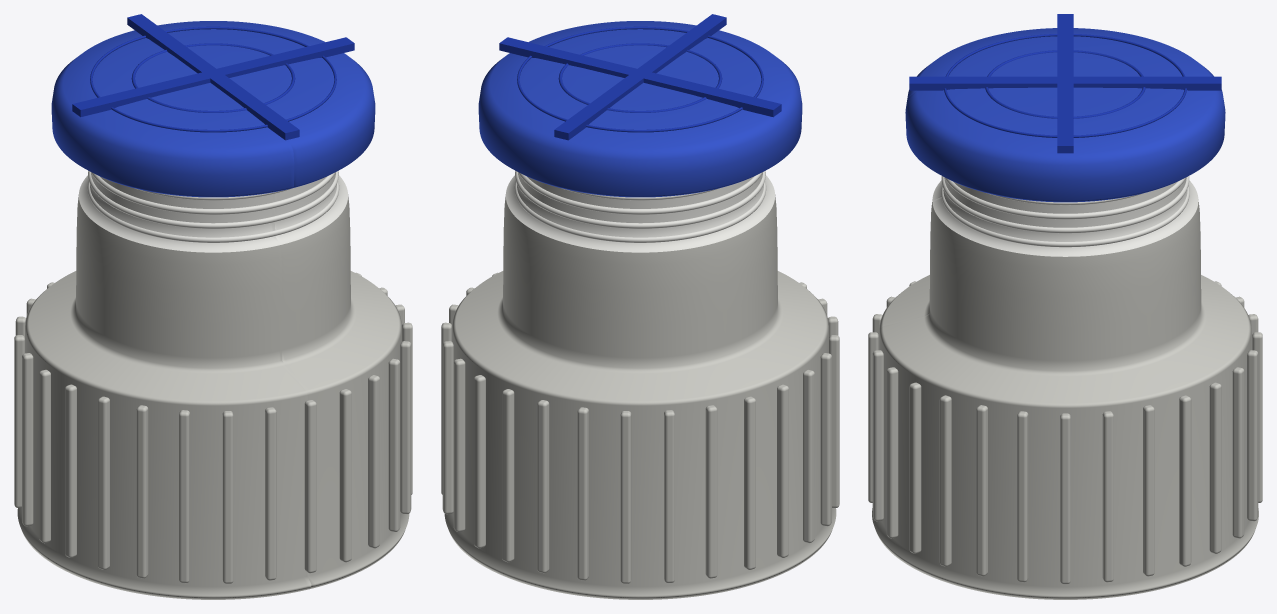
The model's file is araldite-container-procedural.glb.
The picture shows the model from 3 angles, left to right: view 1: azimuth 30°, elevation 25°; view 2: azimuth 150°, elevation 25°; view 3: azimuth 270°, elevation 25°; orthographic projection.
Visible parts, largest first — view 1: grey-body, blue-cap, collar, cross-z, cross-x, rib-6, rib-7, rib-11, rib-4, rib-12, rib-13, rib-3 (+12 smaller); view 2: grey-body, blue-cap, collar, cross-z, cross-x, rib-17, rib-21, rib-22, rib-24, rib-15, rib-16, rib-20 (+12 smaller); view 3: grey-body, blue-cap, collar, cross-x, cross-z, rib-4, rib-24, rib-5, rib-23, rib-3, rib-25, rib-1 (+13 smaller).
Boxes of the visible parts, left/top/right/bottom form: grey-body: left=17, top=194, right=409, bottom=599; blue-cap: left=51, top=21, right=375, bottom=197; collar: left=79, top=172, right=347, bottom=252; cross-z: left=72, top=37, right=354, bottom=117; cross-x: left=127, top=14, right=299, bottom=140; rib-6: left=339, top=389, right=351, bottom=562; rib-7: left=304, top=400, right=316, bottom=573; rib-11: left=136, top=405, right=148, bottom=578; rib-4: left=388, top=358, right=400, bottom=531; rib-12: left=98, top=396, right=109, bottom=569; rib-13: left=65, top=384, right=76, bottom=557; rib-3: left=400, top=341, right=411, bottom=514; grey-body: left=444, top=194, right=836, bottom=599; blue-cap: left=478, top=21, right=802, bottom=197; collar: left=506, top=172, right=774, bottom=252; cross-z: left=499, top=37, right=781, bottom=117; cross-x: left=554, top=14, right=726, bottom=140; rib-17: left=705, top=405, right=717, bottom=578; rib-21: left=537, top=400, right=549, bottom=573; rib-22: left=502, top=389, right=514, bottom=562; rib-24: left=453, top=358, right=465, bottom=531; rib-15: left=777, top=384, right=788, bottom=557; rib-16: left=744, top=396, right=755, bottom=569; rib-20: left=577, top=407, right=588, bottom=580; grey-body: left=872, top=202, right=1258, bottom=599; blue-cap: left=905, top=28, right=1225, bottom=202; collar: left=932, top=177, right=1198, bottom=256; cross-x: left=909, top=76, right=1221, bottom=90; cross-z: left=1057, top=14, right=1073, bottom=153; rib-4: left=909, top=382, right=921, bottom=553; rib-24: left=1209, top=382, right=1221, bottom=553; rib-5: left=886, top=367, right=898, bottom=538; rib-23: left=1232, top=367, right=1244, bottom=538; rib-3: left=939, top=395, right=951, bottom=566; rib-25: left=1179, top=395, right=1191, bottom=566; rib-1: left=1017, top=411, right=1028, bottom=582.
Size of the model in its own units: 2.12 by 2.62 by 2.12.
